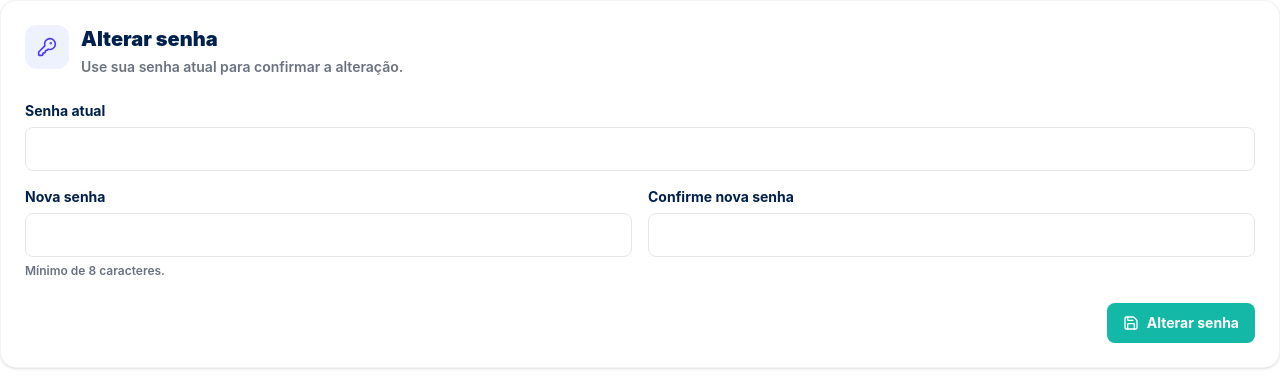
Test: AlterarSenhaForm › valida confirmacao divergente no cliente
Type "atual123" into the password field labelled "Senha atual". click: [640, 149]
box: 25,127 -> 1255,171
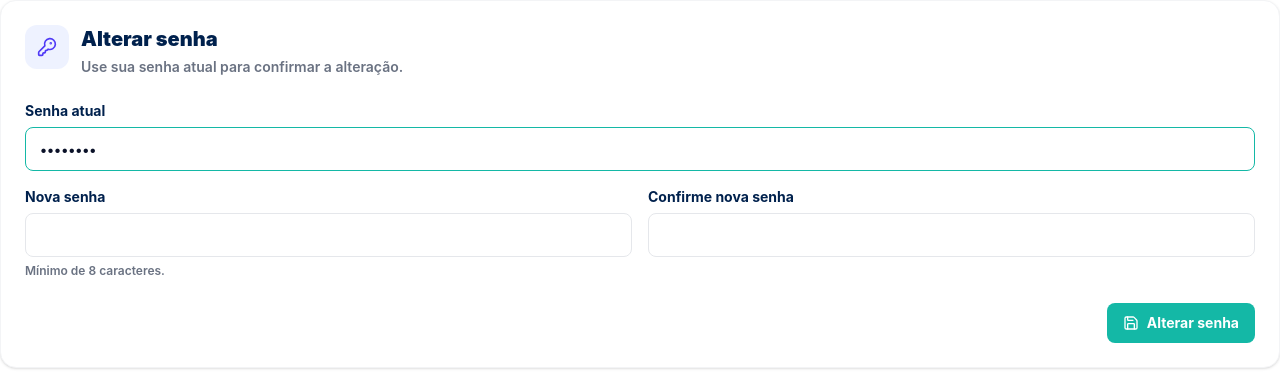
Type "nova1234" into the password field labelled "Nova senha". click: [328, 235]
box: 25,213 -> 632,257
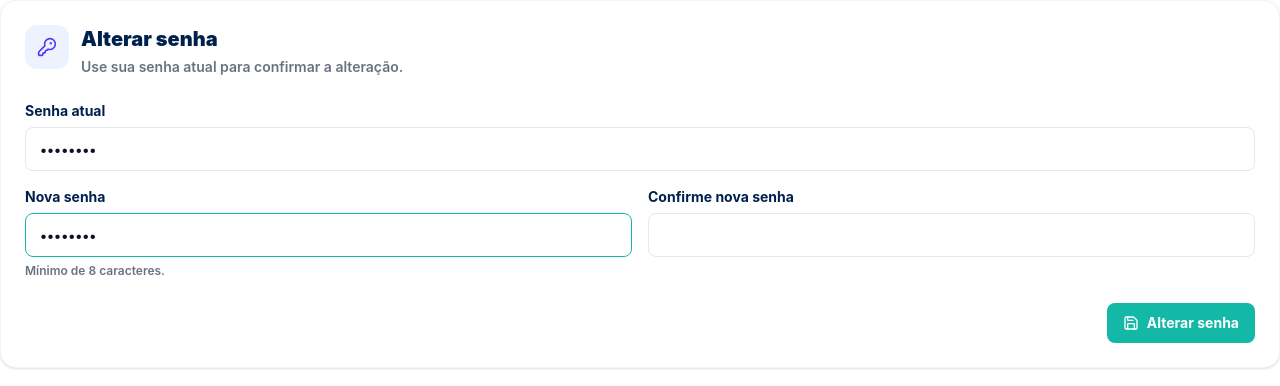
Type "outra123" into the password field labelled "Confirme nova senha". click: [952, 235]
box: 648,213 -> 1255,257
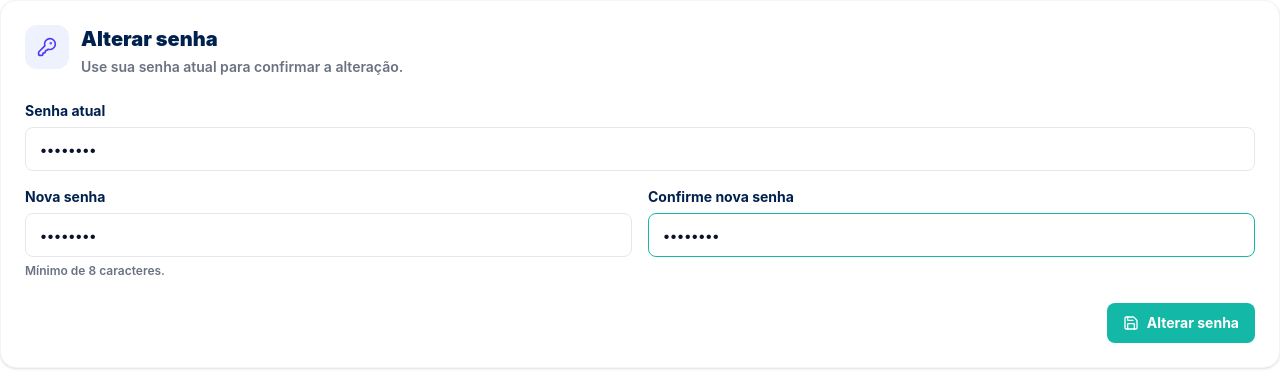
Click the button "Alterar senha". click: [1181, 323]
box: 1107,303 -> 1255,343
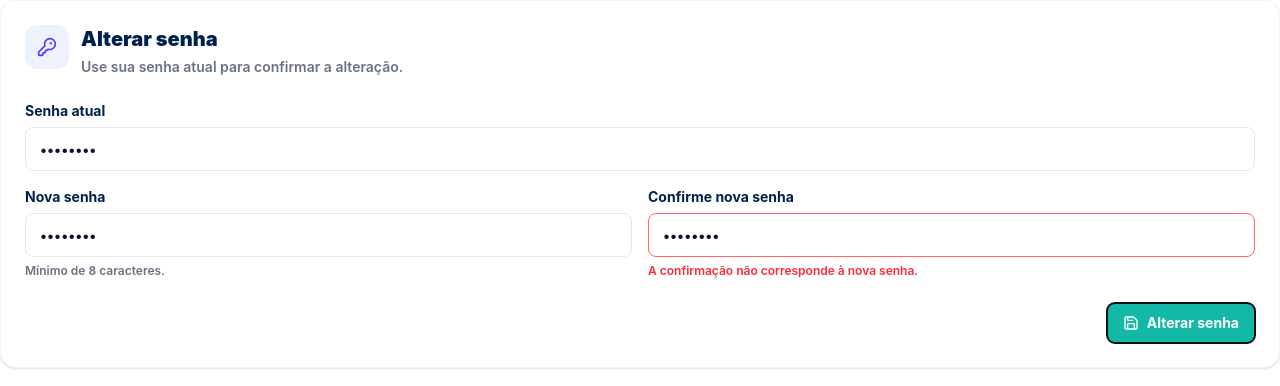
Expected: the text "A confirmação não corresponde à nova senha." is shown, 648,263 -> 918,278
